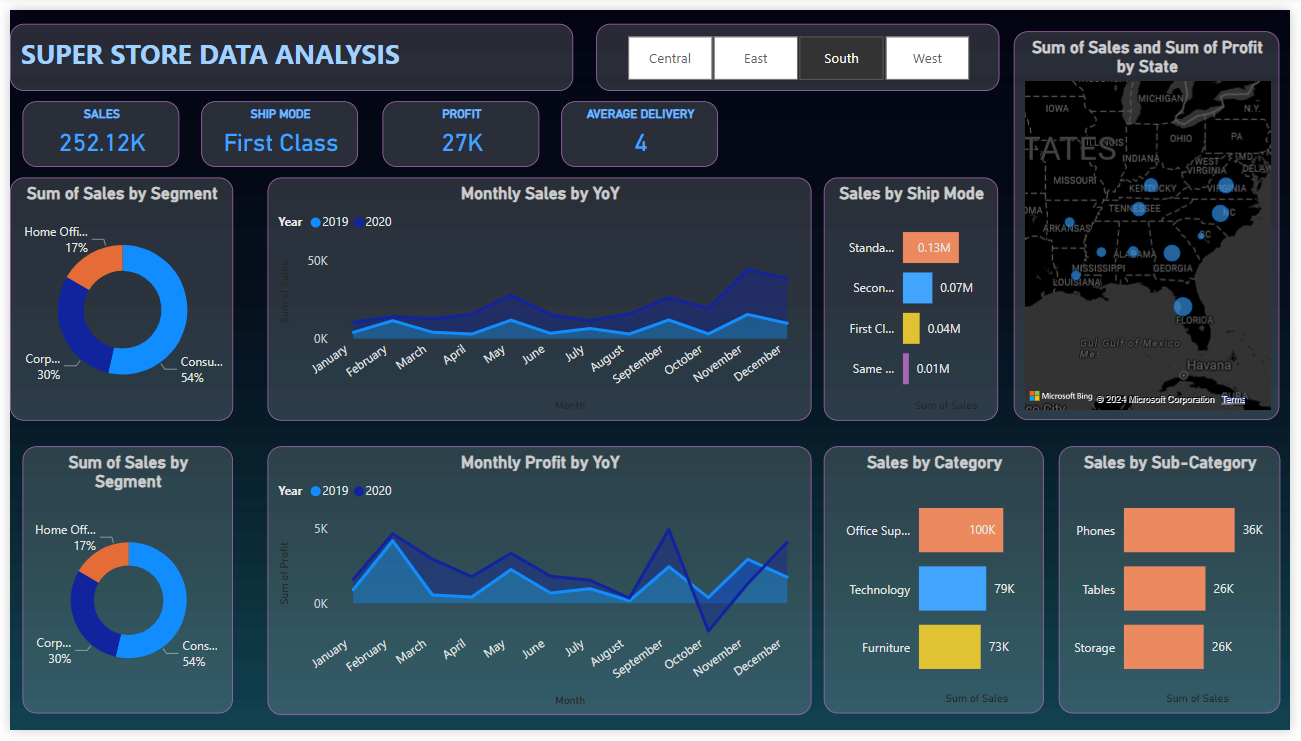

The page's visual inventory and layout, read from the dashboard file:
{"tool":"powerbi","page":{"name":"Page 1","canvas":[1280,720],"ordinal":0},"visuals":[{"type":"clusteredBarChart","title":"Sales by Category","fields":{"Category":["SuperStore_Sales_Dataset.Category"],"Y":["Sum(SuperStore_Sales_Dataset.Sales)"]},"box":[814.3,435.7,220,267.1],"z":0},{"type":"clusteredBarChart","title":"Sales by Sub-Category","fields":{"Category":["SuperStore_Sales_Dataset.Sub-Category"],"Y":["Sum(SuperStore_Sales_Dataset.Sales)"]},"box":[1048.6,435.7,221.4,267.1],"z":1000},{"type":"clusteredBarChart","title":"Sales by Ship Mode","fields":{"Category":["SuperStore_Sales_Dataset.Ship Mode"],"Y":["Sum(SuperStore_Sales_Dataset.Sales)"]},"box":[814.3,167.1,174.3,242.9],"z":2000},{"type":"stackedAreaChart","title":"Monthly Sales by YoY","fields":{"Y":["Sum(SuperStore_Sales_Dataset.Sales)"],"Category":["SuperStore_Sales_Dataset.Order Date.Variation.Date Hierarchy.Month"],"Series":["SuperStore_Sales_Dataset.Order Date.Variation.Date Hierarchy.Year"]},"box":[257.1,167.1,544.3,242.9],"z":3000},{"type":"stackedAreaChart","title":"Monthly Profit by YoY","fields":{"Category":["SuperStore_Sales_Dataset.Order Date.Variation.Date Hierarchy.Month"],"Series":["SuperStore_Sales_Dataset.Order Date.Variation.Date Hierarchy.Year"],"Y":["Sum(SuperStore_Sales_Dataset.Profit)"]},"box":[257.1,435.7,544.3,268.6],"z":4000},{"type":"map","fields":{"Category":["SuperStore_Sales_Dataset.State"],"Size":["Sum(SuperStore_Sales_Dataset.Sales)"]},"box":[1004.3,21.4,265.7,388.6],"z":5000},{"type":"donutChart","fields":{"Category":["SuperStore_Sales_Dataset.Segment"],"Y":["Sum(SuperStore_Sales_Dataset.Sales)"]},"box":[0,167.1,222.9,242.9],"z":6000},{"type":"donutChart","fields":{"Category":["SuperStore_Sales_Dataset.Segment","SuperStore_Sales_Dataset.Payment Mode"],"Y":["Sum(SuperStore_Sales_Dataset.Sales)"]},"box":[12.9,435.7,210,267.1],"z":7000},{"type":"slicer","fields":{"Values":["SuperStore_Sales_Dataset.Region"]},"box":[585.7,14.3,402.9,67.1],"z":8000},{"type":"textbox","box":[0,14.3,562.9,67.1],"z":9000},{"type":"card","title":"SALES","fields":{"Values":["Sum(SuperStore_Sales_Dataset.Sales)"]},"box":[12.9,91.4,157.1,65.7],"z":10000},{"type":"card","title":"SHIP MODE","fields":{"Values":["Min(SuperStore_Sales_Dataset.Ship Mode)"]},"box":[191.4,91.4,157.1,65.7],"z":11000},{"type":"card","title":"PROFIT","fields":{"Values":["Sum(SuperStore_Sales_Dataset.Profit)"]},"box":[372.9,91.4,157.1,65.7],"z":12000},{"type":"card","title":"AVERAGE DELIVERY","fields":{"Values":["Avg(SuperStore_Sales_Dataset.Avg Delivery)"]},"box":[551.4,91.4,157.1,65.7],"z":13000}]}

Visuals, with their boxes in screenshot pixels (x1, y1, x2, y2), scaled from the page's 1280x720 canvas onto the 1301x741 screenshot:
"Sales by Category" clusteredBarChart: bbox=[828, 448, 1051, 723]
"Sales by Sub-Category" clusteredBarChart: bbox=[1066, 448, 1291, 723]
"Sales by Ship Mode" clusteredBarChart: bbox=[828, 172, 1005, 422]
"Monthly Sales by YoY" stackedAreaChart: bbox=[261, 172, 815, 422]
"Monthly Profit by YoY" stackedAreaChart: bbox=[261, 448, 815, 725]
map - SuperStore_Sales_Dataset.State x Sum(SuperStore_Sales_Dataset.Sales): bbox=[1021, 22, 1291, 422]
donutChart - SuperStore_Sales_Dataset.Segment x Sum(SuperStore_Sales_Dataset.Sales): bbox=[0, 172, 227, 422]
donutChart - SuperStore_Sales_Dataset.Segment x SuperStore_Sales_Dataset.Payment Mode: bbox=[13, 448, 227, 723]
slicer - SuperStore_Sales_Dataset.Region: bbox=[595, 15, 1005, 84]
textbox: bbox=[0, 15, 572, 84]
"SALES" card: bbox=[13, 94, 173, 162]
"SHIP MODE" card: bbox=[195, 94, 354, 162]
"PROFIT" card: bbox=[379, 94, 539, 162]
"AVERAGE DELIVERY" card: bbox=[560, 94, 720, 162]
